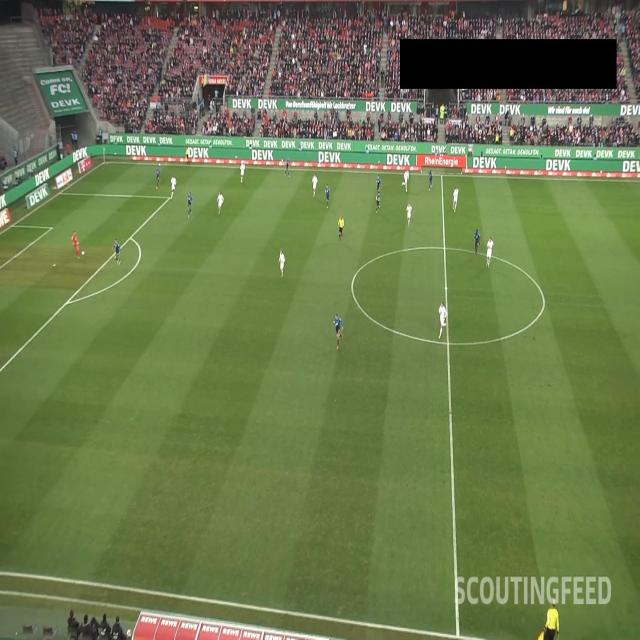ball: (81, 250, 85, 256)
